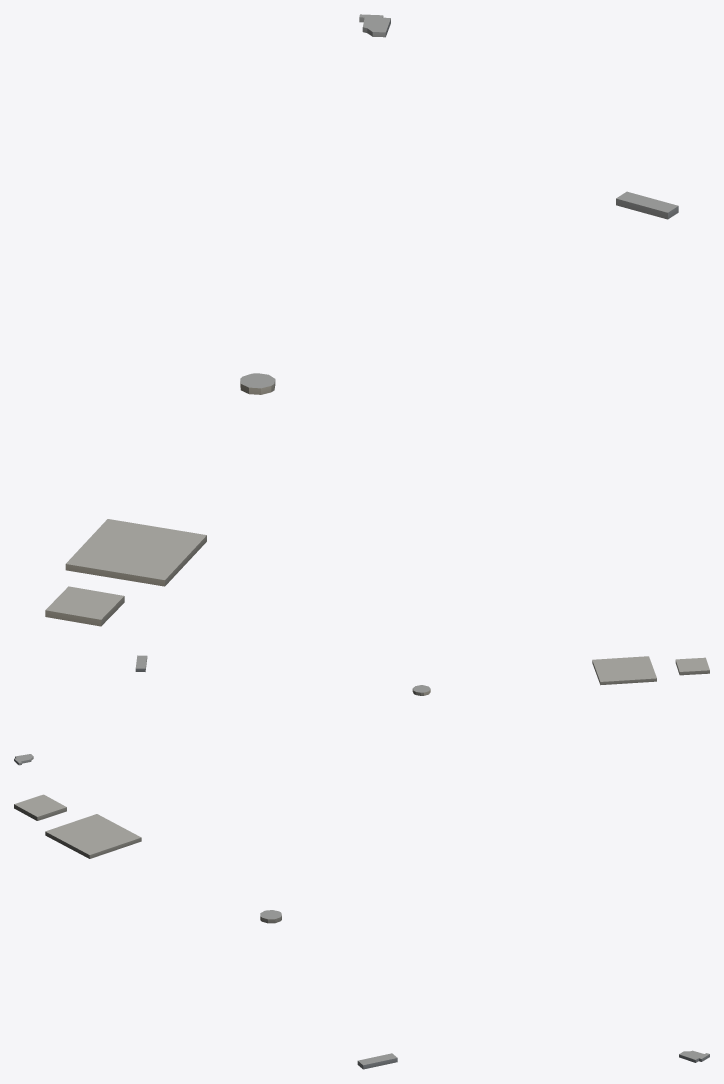
Rendered from bld_16_4.fbx.
3 renders of one model, top to bottom at view 1: azimuth 30°, elevation 25°; view 2: azimuth 150°, elevation 25°; view 3: azimuth 270°, elevation 25°, orthographic. The views are drawn at different scales.
Visible parts, largest first — view 1: bld_16_4_LOD0; view 2: bld_16_4_LOD0; view 3: bld_16_4_LOD0.
Part boxes in pixels (x1,y1,x2,y2): bld_16_4_LOD0: (45,14,678,626); bld_16_4_LOD0: (14,655,709,765); bld_16_4_LOD0: (14,794,709,1069).
Size of the model in its own units: 1806 by 13.15 by 1961.
